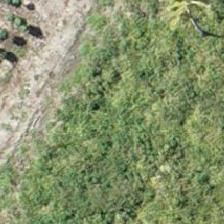coconut_tree: (146, 0, 223, 45)
